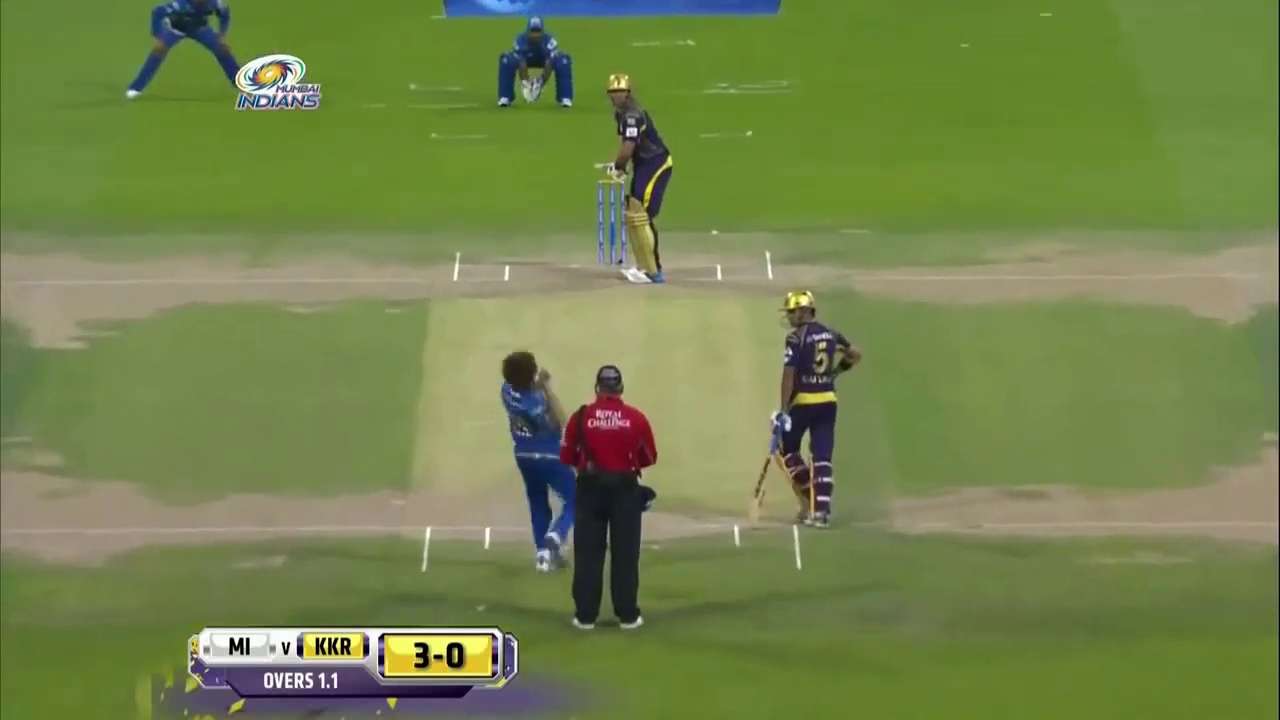bat: (748, 452, 774, 521)
